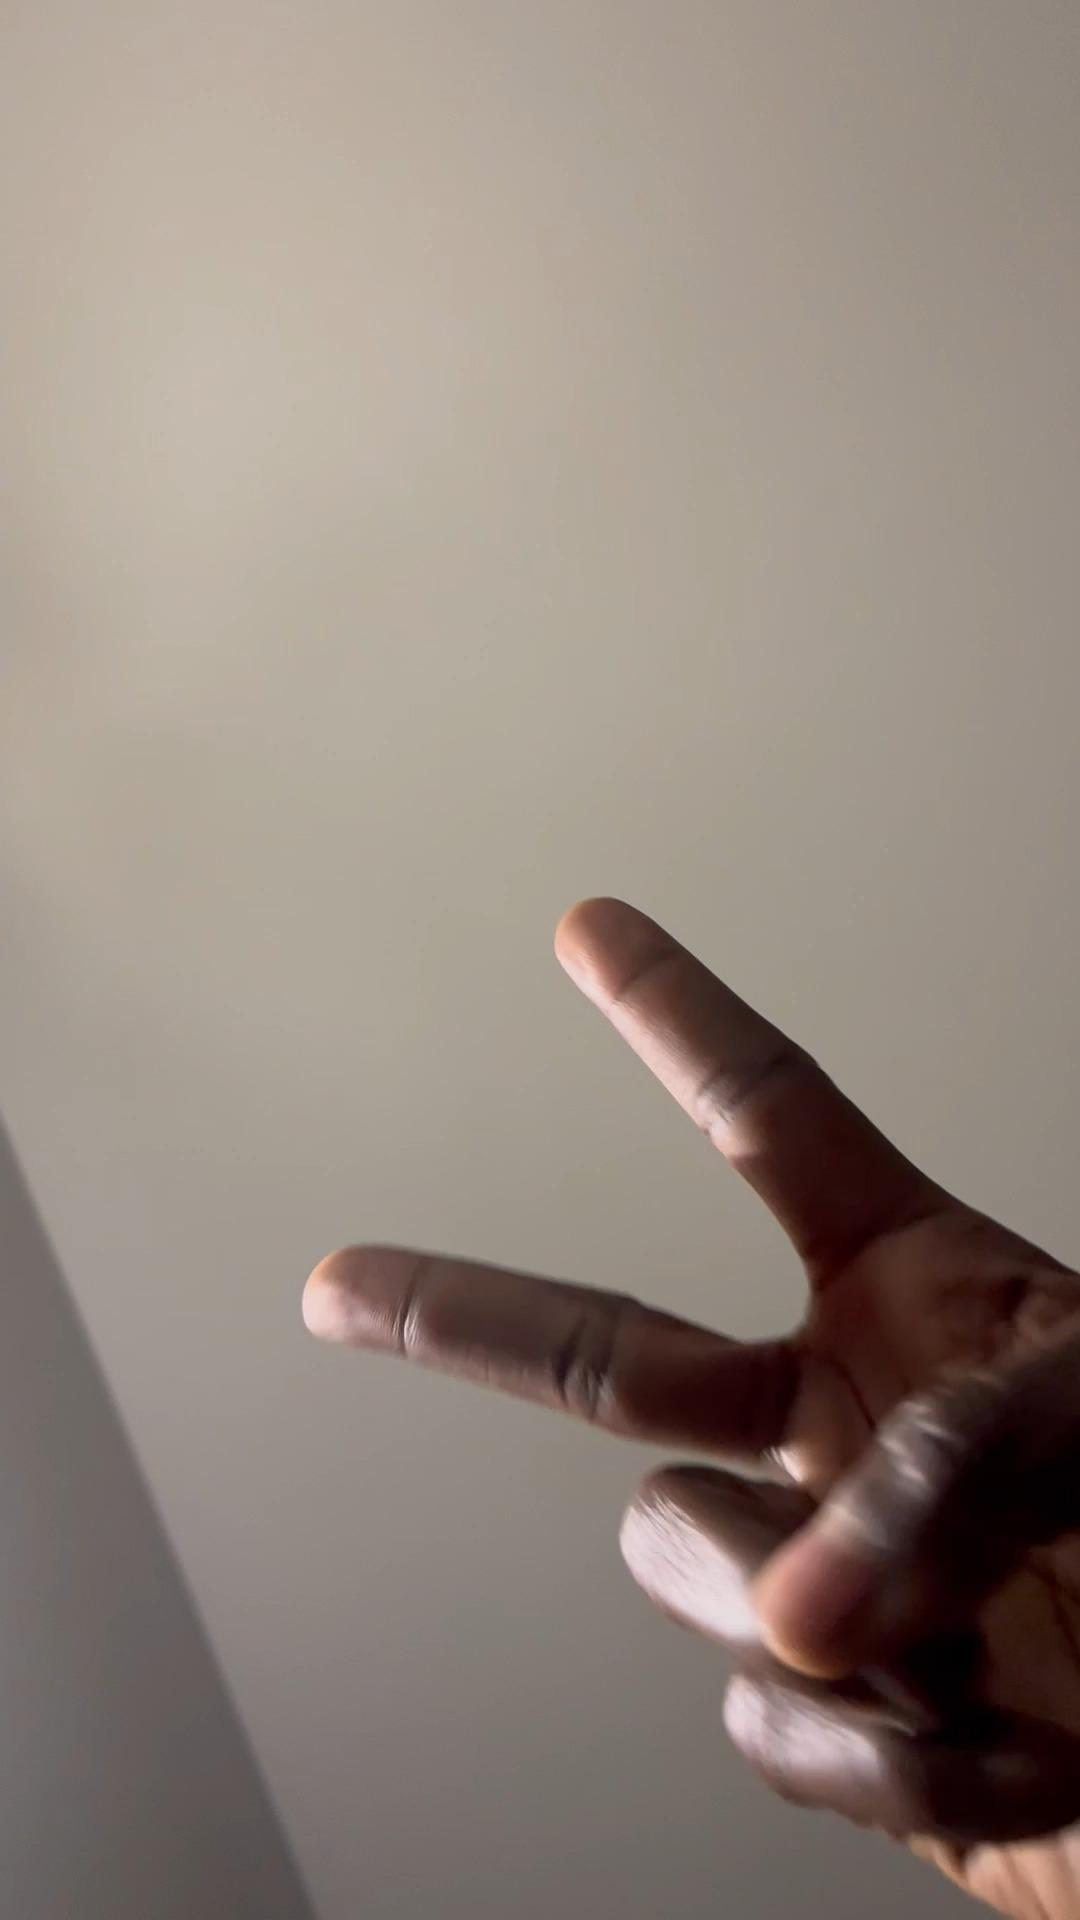Scissors: (303, 893, 1080, 1918)
